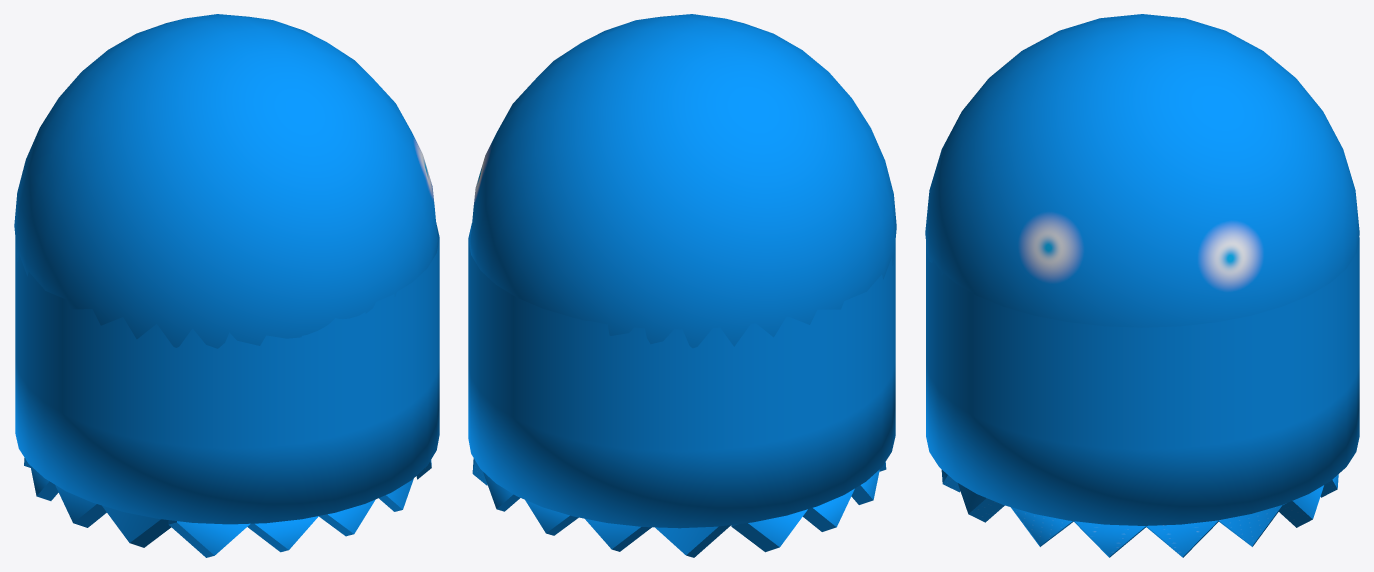
The model's file is Ghost.FBX.
3 renders of one model, left to right at view 1: azimuth 30°, elevation 25°; view 2: azimuth 150°, elevation 25°; view 3: azimuth 270°, elevation 25°, orthographic.
Visible parts, largest first — view 1: Sphere002; view 2: Sphere002; view 3: Sphere002.
Part boxes in pixels (x1,y1,x2,y2): Sphere002: (14,14,439,557); Sphere002: (468,14,896,557); Sphere002: (925,14,1359,557).
Bounding box in the file's own units: 79.96 × 92.36 × 81.65.
1 material, 1 textured.
